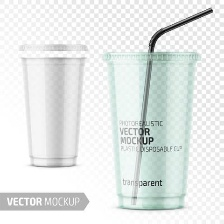drinking_straw: (128, 5, 215, 208)
glass: (96, 44, 203, 213), (13, 35, 90, 171)
